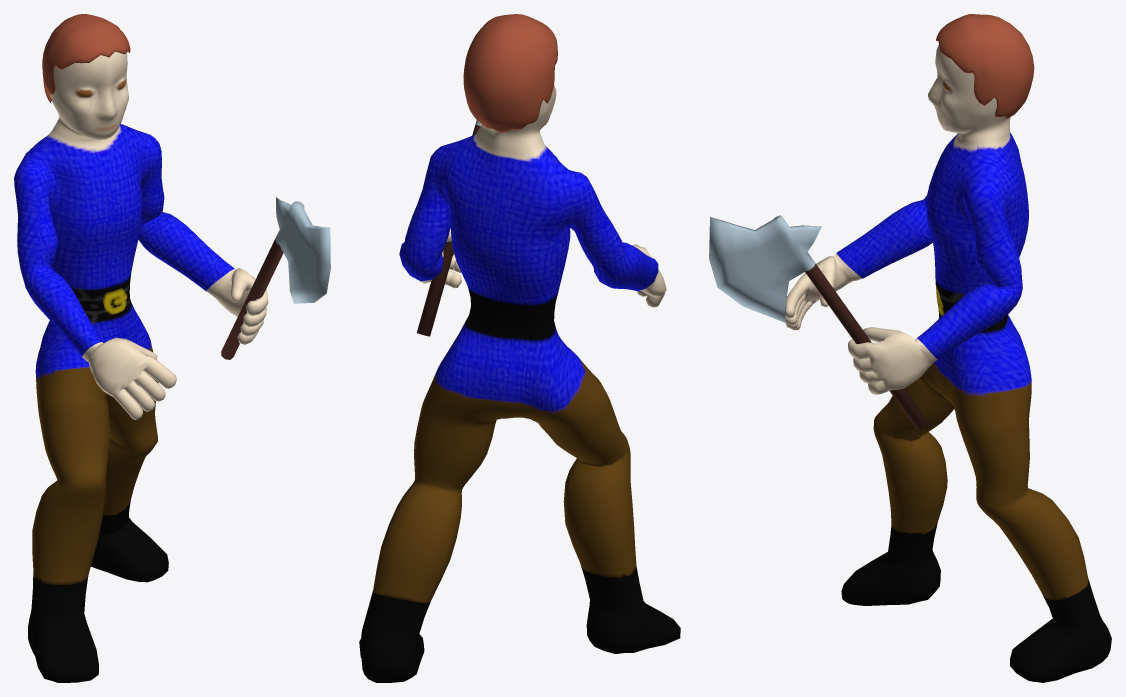
The model's file is Player02Menus.dae.
3 views of the same model, side by side, from view 1: azimuth 30°, elevation 25°; view 2: azimuth 150°, elevation 25°; view 3: azimuth 270°, elevation 25° (orthographic). The views are drawn at different scales.
Parts seen in each view (by area): view 1: Player02ForMenus; view 2: Player02ForMenus; view 3: Player02ForMenus.
Boxes of the visible parts, x1=… form: Player02ForMenus: x1=14, y1=14, x2=330, y2=682; Player02ForMenus: x1=359, y1=14, x2=680, y2=682; Player02ForMenus: x1=709, y1=14, x2=1111, y2=682.
Bounding box in the file's own units: 0.7699 × 1.14 × 1.93.
4 materials, 1 textured.
